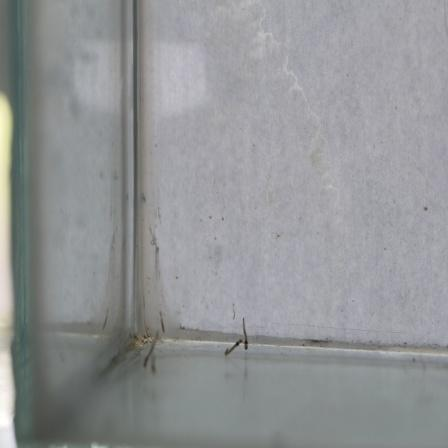Jentik-Nyamuk: (219, 313, 252, 357)
